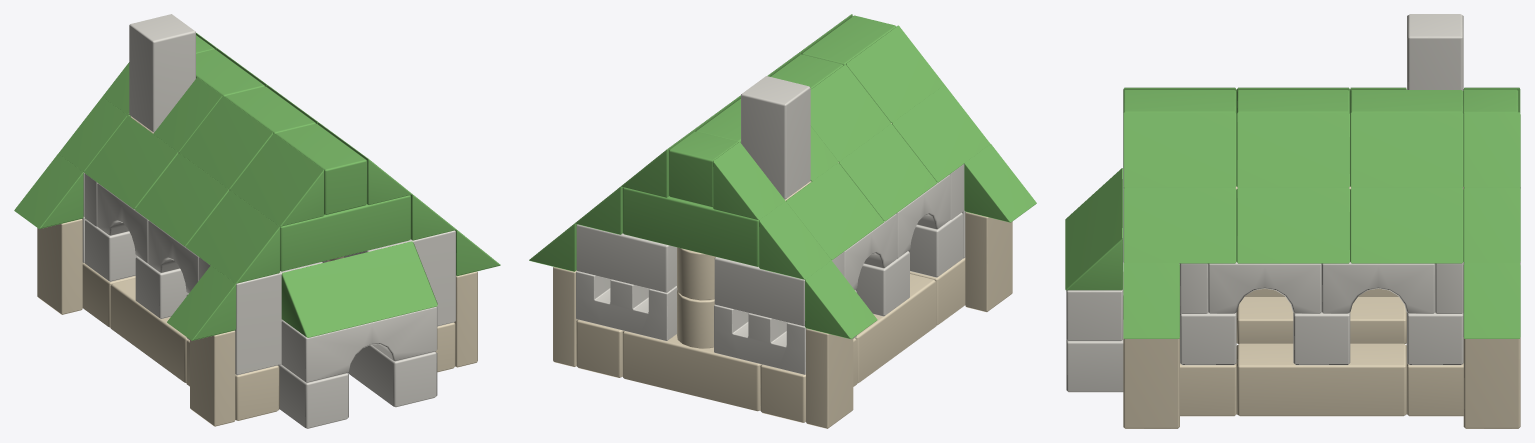
File: house up F.fbx
3 views of the same model, side by side, from view 1: azimuth 30°, elevation 25°; view 2: azimuth 150°, elevation 25°; view 3: azimuth 270°, elevation 25° (orthographic). The views are drawn at different scales.
Visible parts, largest first — view 1: HouseB_core_pCube459, HouseB_core_pCylinder25; view 2: HouseB_core_pCylinder25, HouseB_core_pCube459; view 3: HouseB_core_pCube459, HouseB_core_pCylinder25.
Part boxes in pixels (left/top/right/bottom): HouseB_core_pCube459: left=14, top=33, right=500, bottom=340; HouseB_core_pCylinder25: left=37, top=14, right=477, bottom=428; HouseB_core_pCylinder25: left=553, top=76, right=1012, bottom=428; HouseB_core_pCube459: left=529, top=14, right=1036, bottom=339; HouseB_core_pCube459: left=1065, top=87, right=1520, bottom=338; HouseB_core_pCylinder25: left=1066, top=14, right=1520, bottom=428.
Size of the model in its own units: 73.64 by 63 by 84.17.
